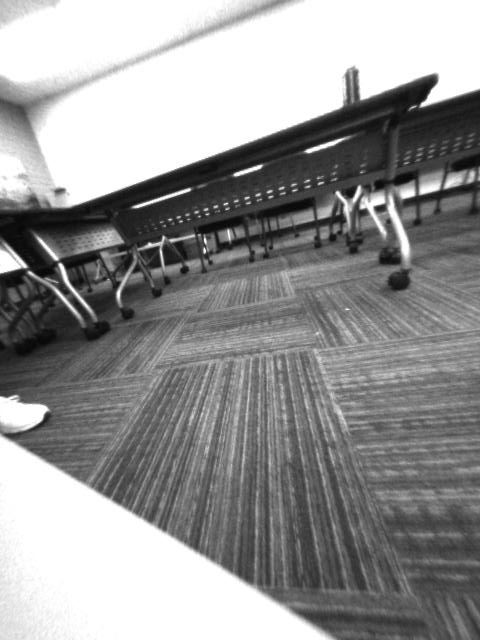can: (339, 63, 365, 110)
